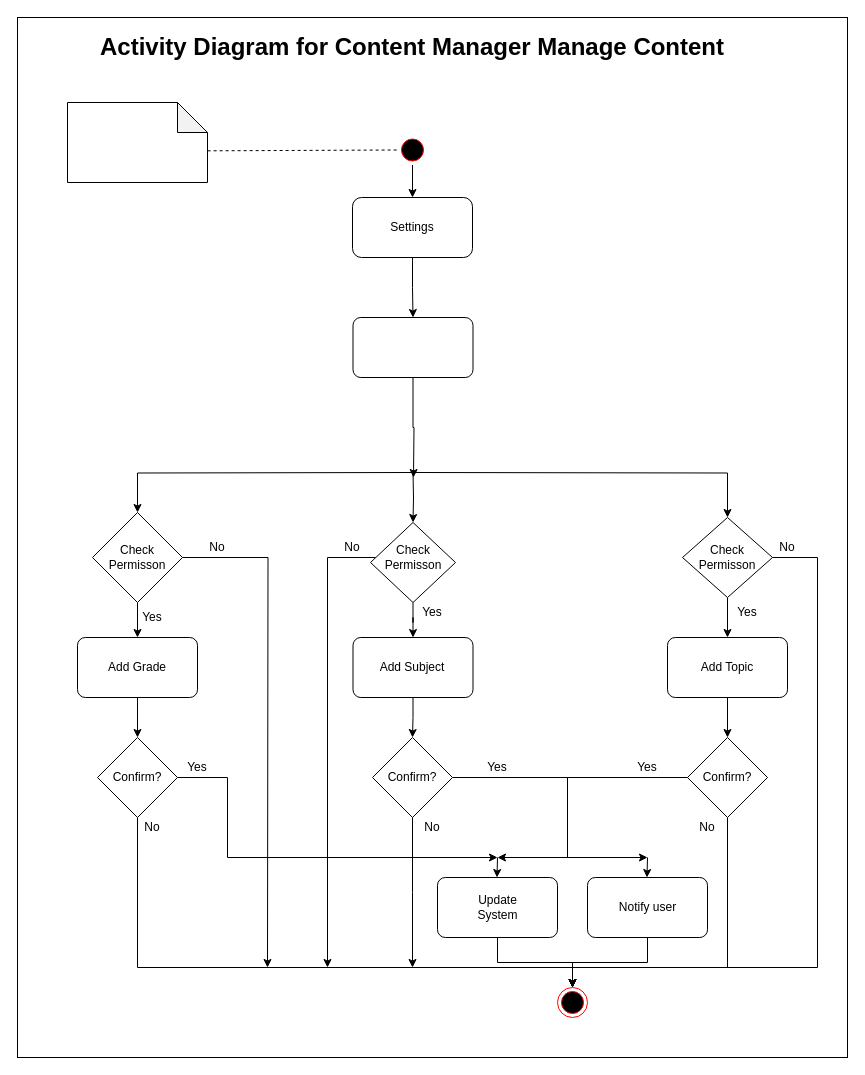
Some shapes in this 865 by 1075 pixel diagram are drawn without their labels. Here are the shapes that lost their labels. From the top down, the box of each, then its label:
(66, 102, 208, 182): Content Manager Logged in
(352, 316, 473, 378): Manage Content
